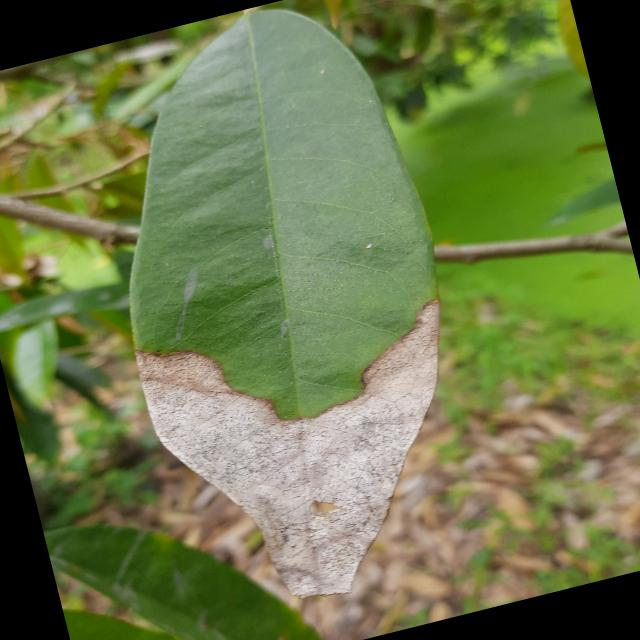Leaf Blight: (50, 0, 517, 639)
